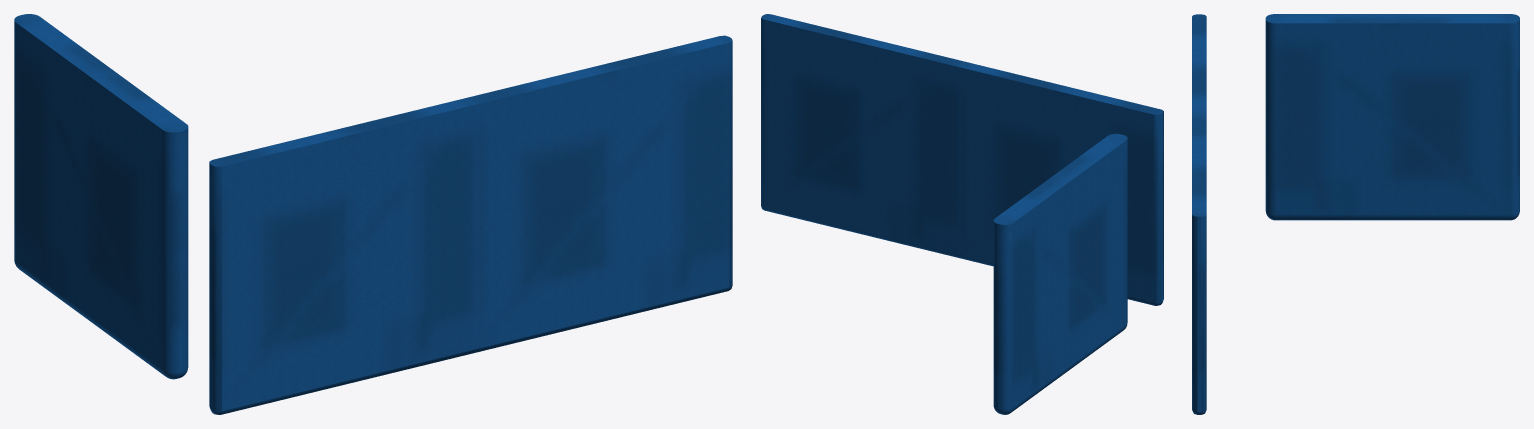
The model's file is 1-standing-binder-band-1-1.fbx.
The picture shows the model from 3 angles, left to right: view 1: azimuth 30°, elevation 25°; view 2: azimuth 150°, elevation 25°; view 3: azimuth 270°, elevation 25°; orthographic projection. The views are drawn at different scales.
Parts seen in each view (by area): view 1: standing-binder-band-1-1; view 2: standing-binder-band-1-1; view 3: standing-binder-band-1-1.
Part boxes in pixels (x1=…): standing-binder-band-1-1: x1=14, y1=14, x2=732, y2=414; standing-binder-band-1-1: x1=761, y1=14, x2=1163, y2=414; standing-binder-band-1-1: x1=1192, y1=14, x2=1519, y2=414.
Size of the model in its own units: 13020 by 6000 by 8900.
1 material, 1 textured.
